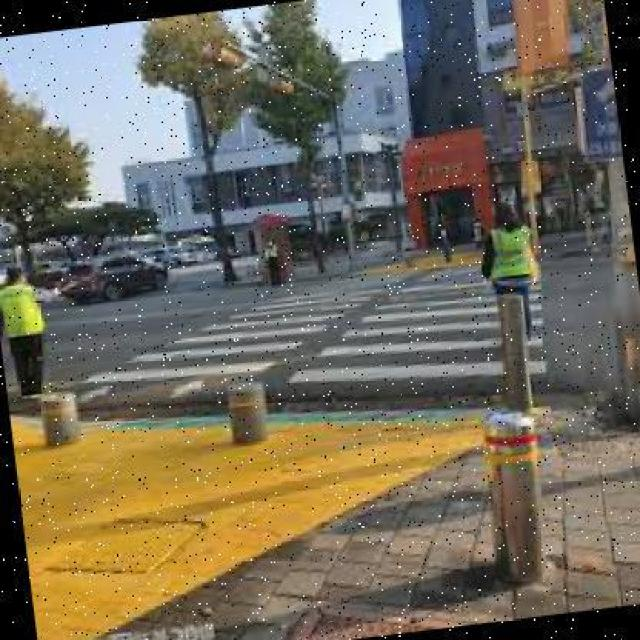Person: (469, 196, 543, 352), (0, 259, 74, 406)
